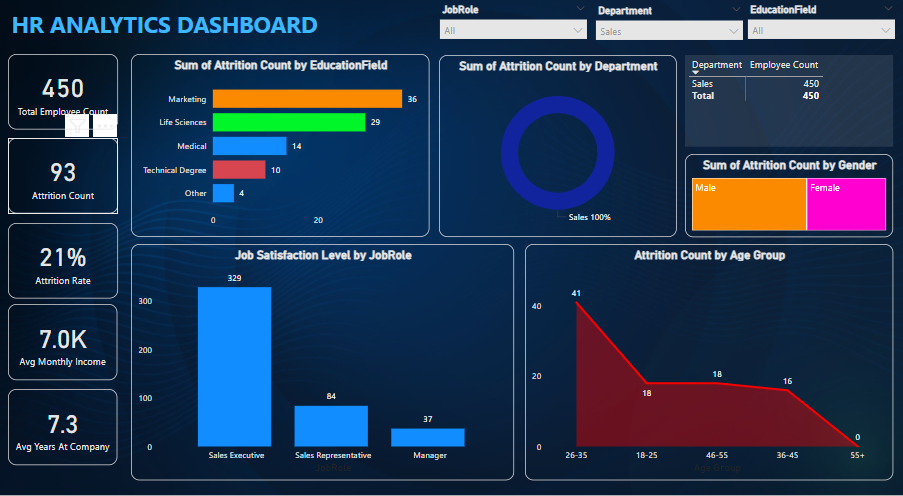

What the dashboard file says about the page in this screenshot:
{"tool":"powerbi","page":{"name":"Page 1","canvas":[1280,720],"ordinal":0},"visuals":[{"type":"donutChart","fields":{"Category":["HR_Analytics.Department"],"Y":["Sum(HR_Analytics.Attrition Count)"]},"box":[623.3,85,336.7,258.3],"z":0},{"type":"barChart","fields":{"Category":["HR_Analytics.EducationField"],"Y":["Sum(HR_Analytics.Attrition Count)"]},"box":[187.1,84.3,422.9,258.6],"z":1000},{"type":"treemap","fields":{"Group":["HR_Analytics.Gender"],"Values":["Sum(HR_Analytics.Attrition Count)"]},"box":[971.7,225,295,118.3],"z":2000},{"type":"card","fields":{"Values":["Sum(HR_Analytics.Attrition Count)"]},"box":[12.9,202.9,155.7,107.1],"z":3000},{"type":"card","fields":{"Values":["HR_Analytics.Attrition Rate"]},"box":[12.9,322.9,155.7,107.1],"z":4000},{"type":"card","fields":{"Values":["Sum(HR_Analytics.EmployeeCount)"]},"box":[12.9,84.3,155.7,107.1],"z":5000},{"type":"card","fields":{"Values":["Avg(HR_Analytics.MonthlyIncome)"]},"box":[13.3,438.3,155,108.3],"z":6000},{"type":"columnChart","fields":{"Category":["HR_Analytics.JobRole"],"Y":["CountNonNull(HR_Analytics.JobSatisfaction)"]},"box":[186.7,353.3,543.3,335],"z":7000},{"type":"card","fields":{"Values":["Avg(HR_Analytics.YearsAtCompany)"]},"box":[13.3,558.3,155,108.3],"z":8000},{"type":"slicer","fields":{"Values":["HR_Analytics.JobRole"]},"box":[615,6.7,228.3,66.7],"z":9000},{"type":"pivotTable","fields":{"Rows":["HR_Analytics.Department"],"Values":["Sum(HR_Analytics.EmployeeCount)"]},"box":[971.7,85,295,130],"z":10000},{"type":"areaChart","fields":{"Category":["HR_Analytics.AgeGroup"],"Y":["Sum(HR_Analytics.Attrition Count)"]},"box":[745,353.3,521.7,335],"z":11000},{"type":"slicer","fields":{"Values":["HR_Analytics.Department"]},"box":[836,8,228,66],"z":12000},{"type":"slicer","fields":{"Values":["HR_Analytics.EducationField"]},"box":[1052,7,228,66],"z":13000},{"type":"textbox","box":[12.9,14.3,461.4,52.9],"z":14000}]}

Visuals, with their boxes in screenshot pixels (x1, y1, x2, y2), scaled from the page's 1280x720 canvas onto the 903x496 screenshot:
donutChart - HR_Analytics.Department x Sum(HR_Analytics.Attrition Count): box(440, 59, 677, 236)
barChart - HR_Analytics.EducationField x Sum(HR_Analytics.Attrition Count): box(132, 58, 430, 236)
treemap - HR_Analytics.Gender x Sum(HR_Analytics.Attrition Count): box(686, 155, 894, 236)
card - Sum(HR_Analytics.Attrition Count): box(9, 140, 119, 214)
card - HR_Analytics.Attrition Rate: box(9, 222, 119, 296)
card - Sum(HR_Analytics.EmployeeCount): box(9, 58, 119, 132)
card - Avg(HR_Analytics.MonthlyIncome): box(9, 302, 119, 377)
columnChart - HR_Analytics.JobRole x CountNonNull(HR_Analytics.JobSatisfaction): box(132, 243, 515, 474)
card - Avg(HR_Analytics.YearsAtCompany): box(9, 385, 119, 459)
slicer - HR_Analytics.JobRole: box(434, 5, 595, 51)
pivotTable - HR_Analytics.Department x Sum(HR_Analytics.EmployeeCount): box(686, 59, 894, 148)
areaChart - HR_Analytics.AgeGroup x Sum(HR_Analytics.Attrition Count): box(526, 243, 894, 474)
slicer - HR_Analytics.Department: box(590, 6, 751, 51)
slicer - HR_Analytics.EducationField: box(742, 5, 902, 50)
textbox: box(9, 10, 335, 46)
